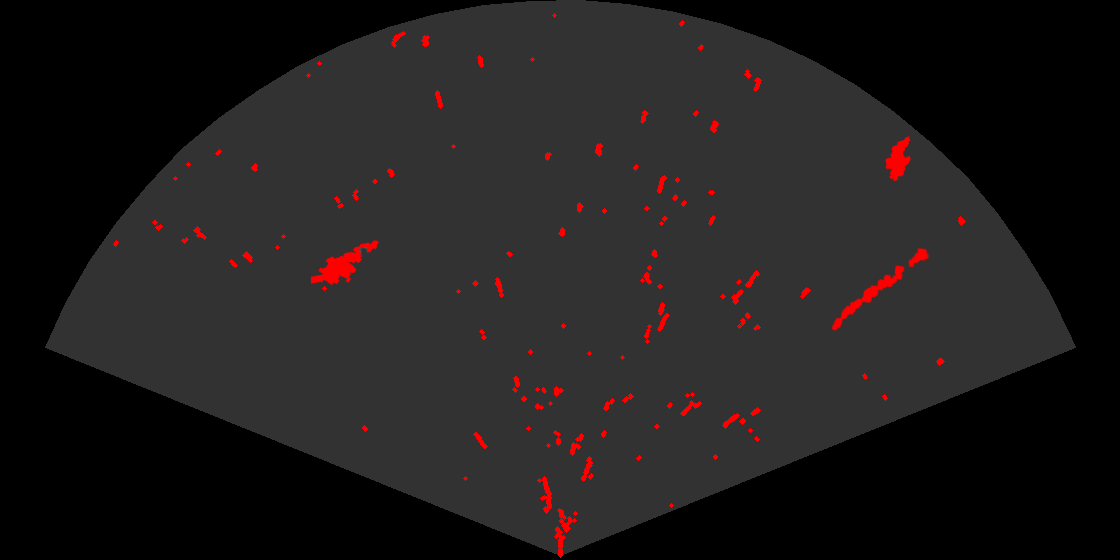AUV: (884, 134, 912, 183)
chain: (830, 246, 931, 332)
frogman: (311, 239, 380, 286)
